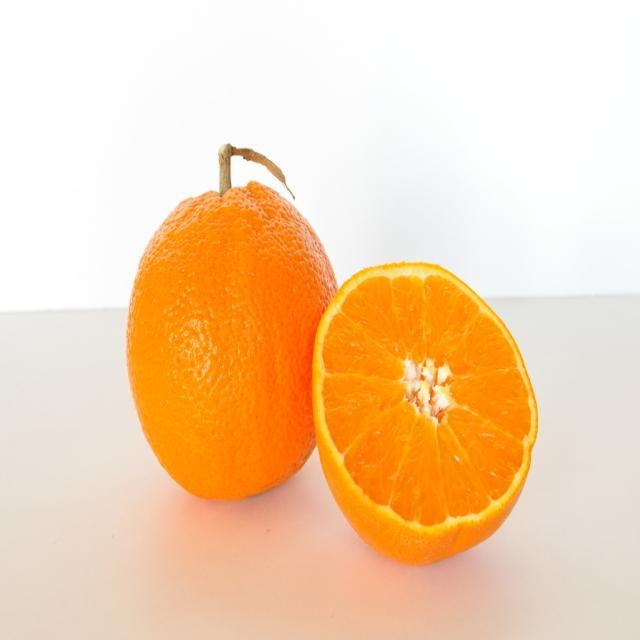Orange: (124, 158, 338, 506), (314, 262, 533, 567)
